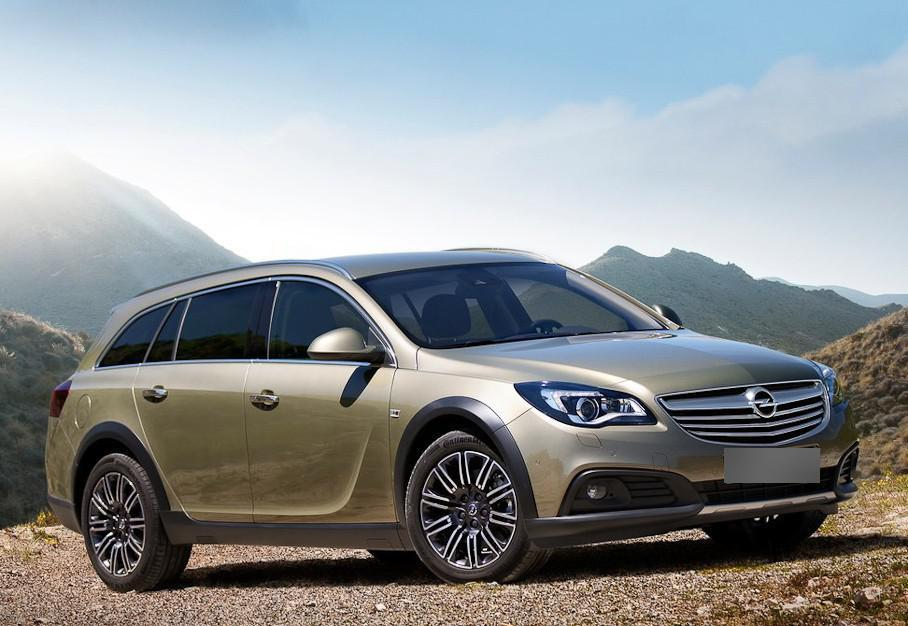Wagon: (45, 246, 860, 595)
